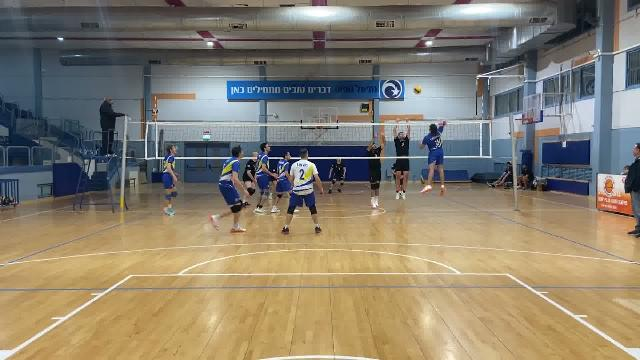ball: (412, 84, 422, 94)
